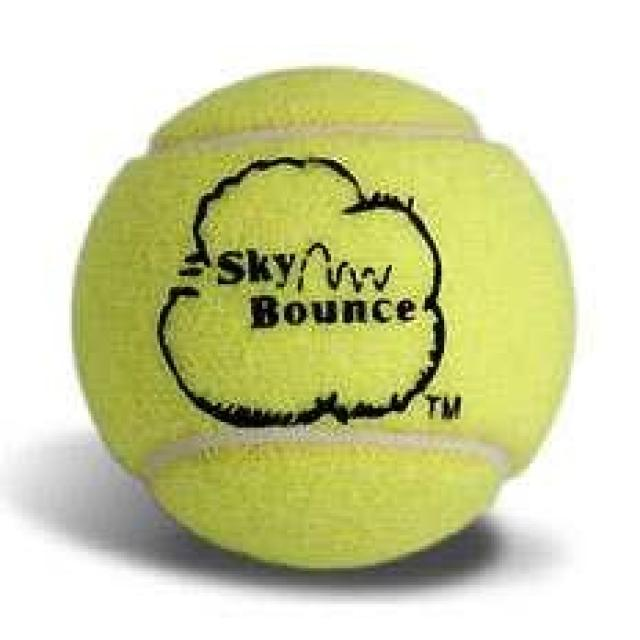Tennis_Ball: (73, 70, 584, 574)
